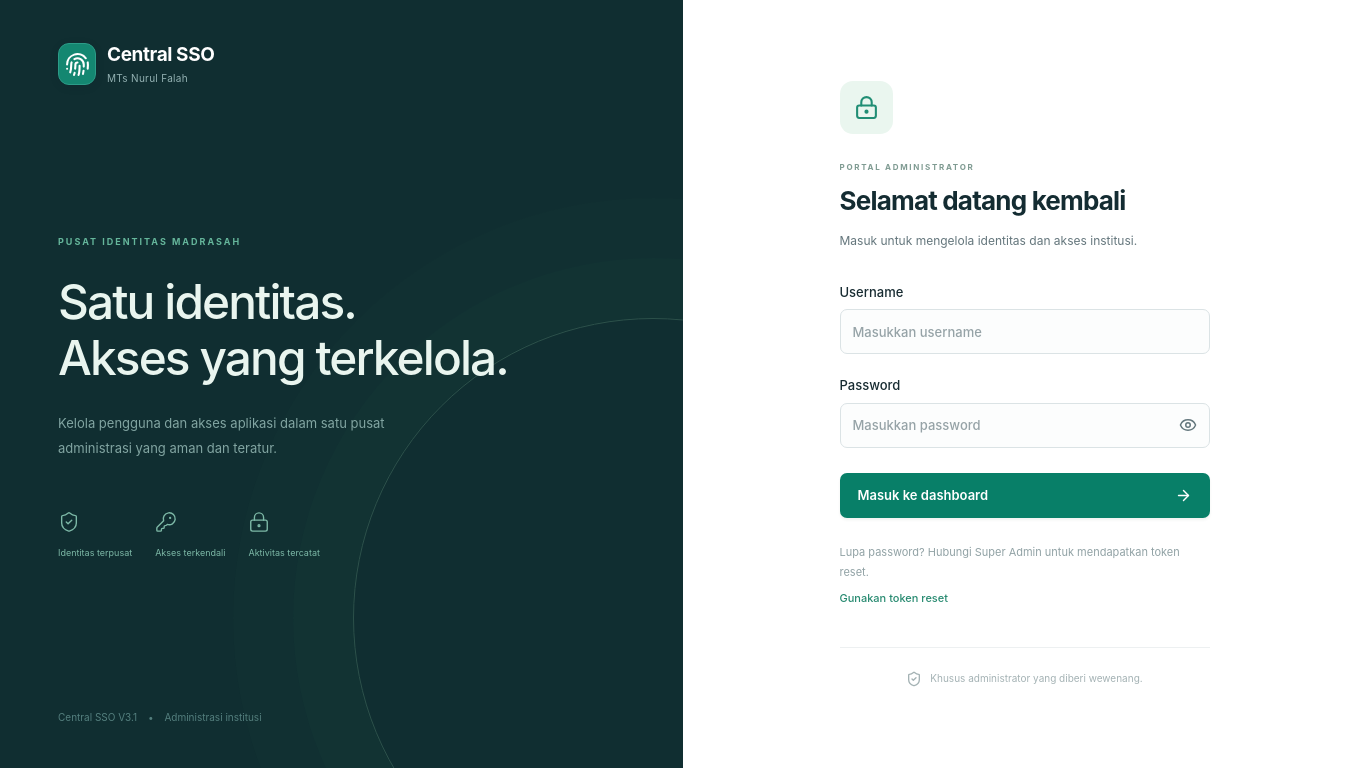
UI01 login gagal menampilkan error aman dan dapat dicoba kembali
This screenshot has width=1366, height=768.
Type "admin.utama" into the field labelled "Username". click: point(1024, 332)
box: [840,309,1210,354]
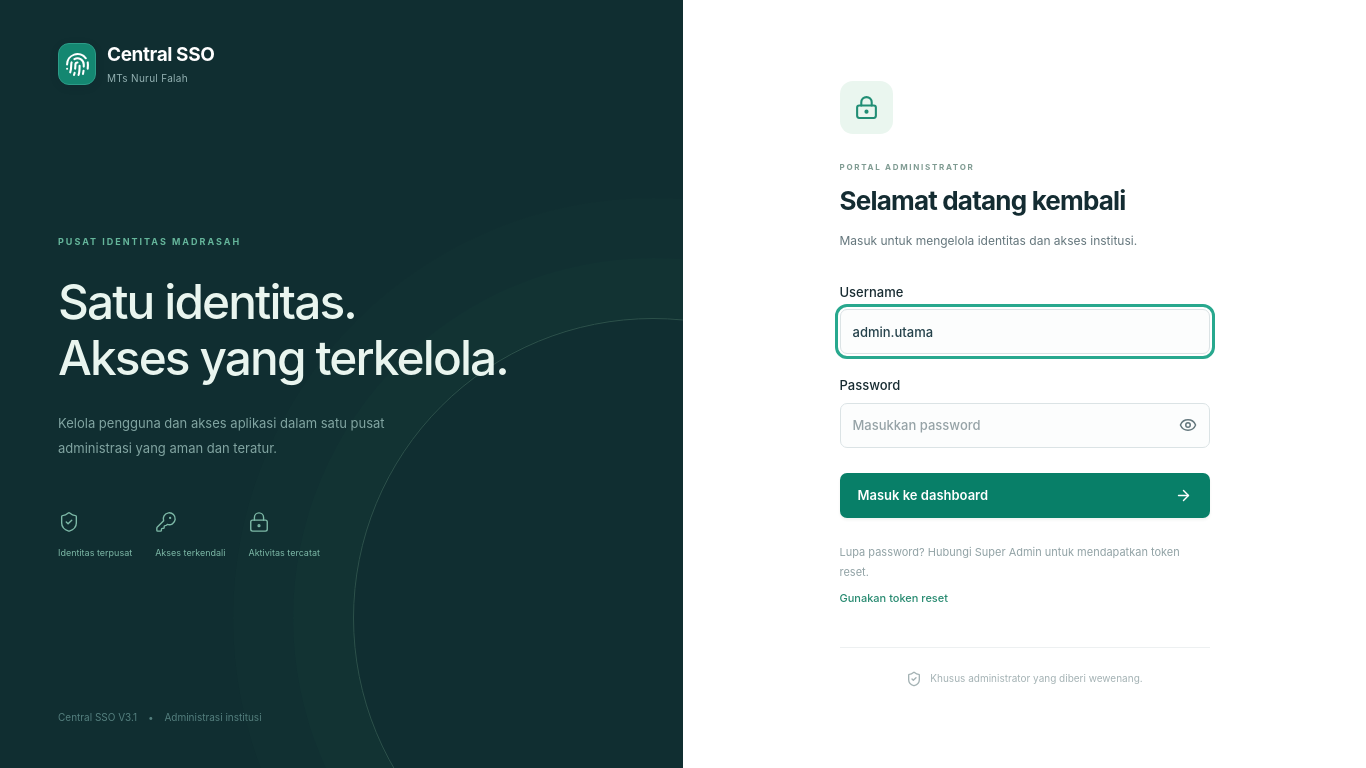
Type "frasa sandi salah" into the password field labelled "Password". click: point(1024, 425)
box: [840,402,1210,448]
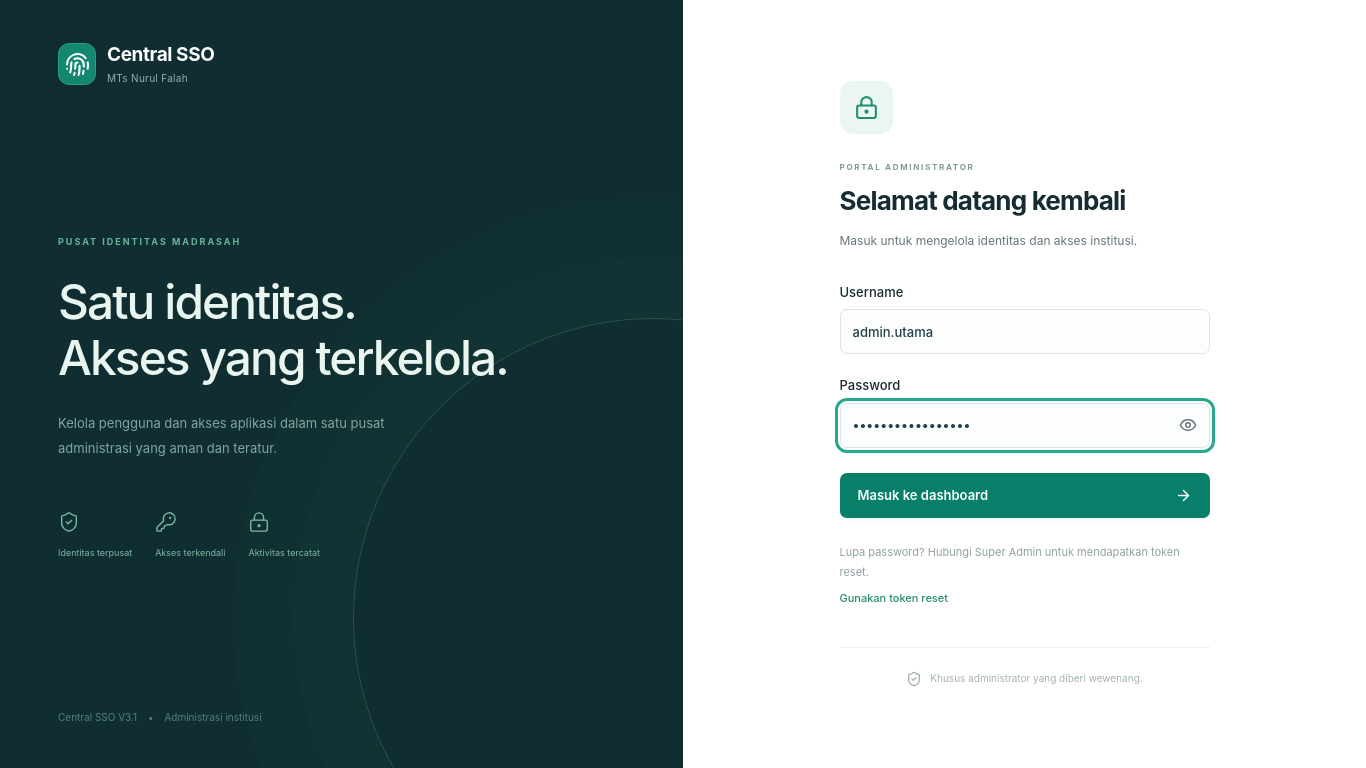
Click the button "Masuk ke dashboard". click: point(923, 495)
box: [840,472,1210,518]
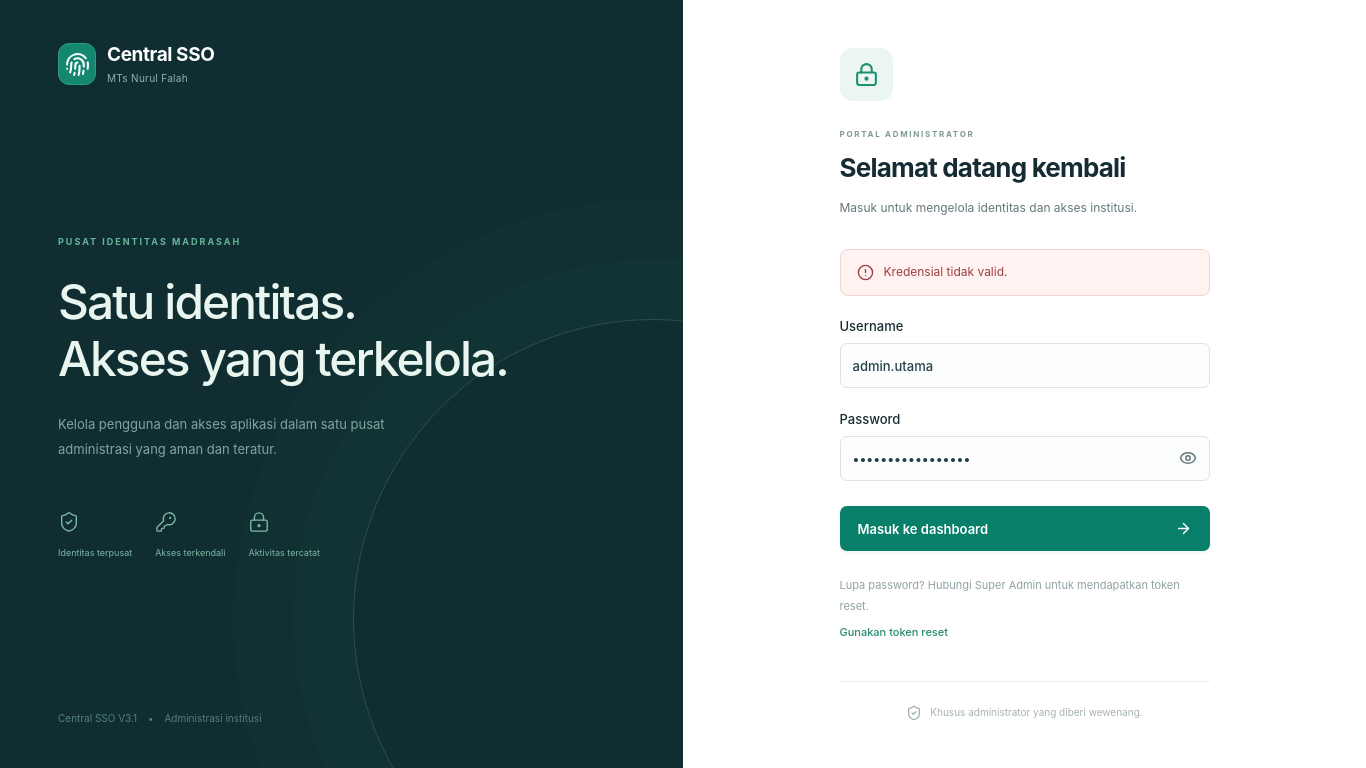
Expected: the button "Masuk ke dashboard" is enabled, [840,506,1210,551]
Result: the message shows "Kredensial tidak valid" at [884,264,1008,280]
